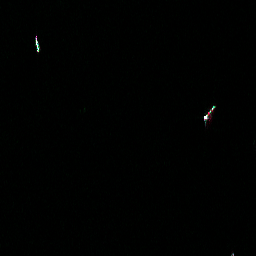ship: (201, 103, 218, 123), (33, 36, 42, 54)
